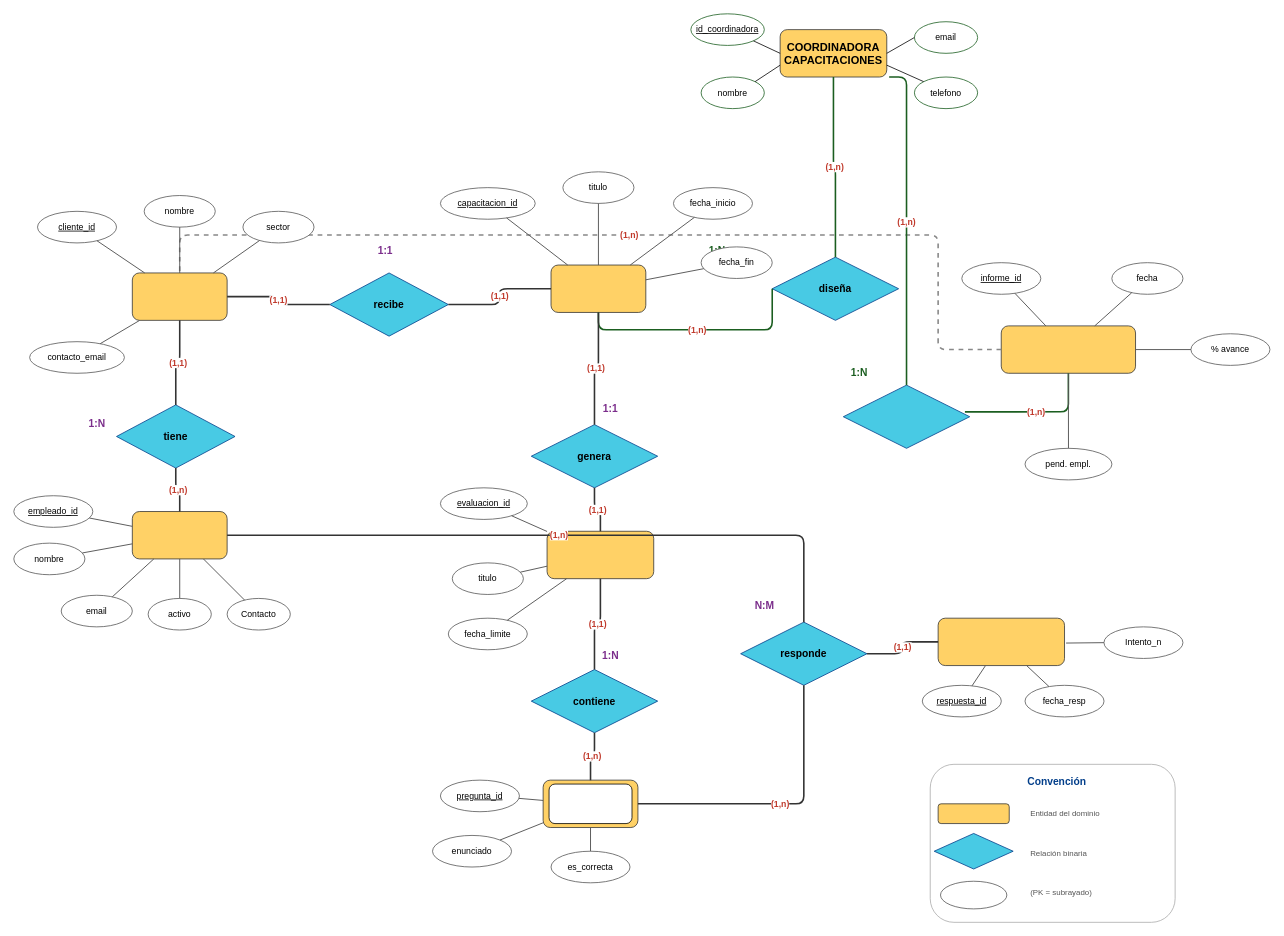
Some shapes in this 1284 by 936 pixel diagram are drawn without their labels. Here are the shapes that lost their labels. From the top down, the centre of each, then its label:
(179,296): CLIENTE
(598,288): CAPACITACIÓN
(1068,349): INFORME DIARIO
(906,416): envía
(179,535): EMPLEADO
(600,554): EVALUACIÓN
(1001,641): RESPUESTA EMPLEADO
(590,803): PREGUNTA
(973,813): Entidad
(973,851): Relación
(973,894): Atributo
